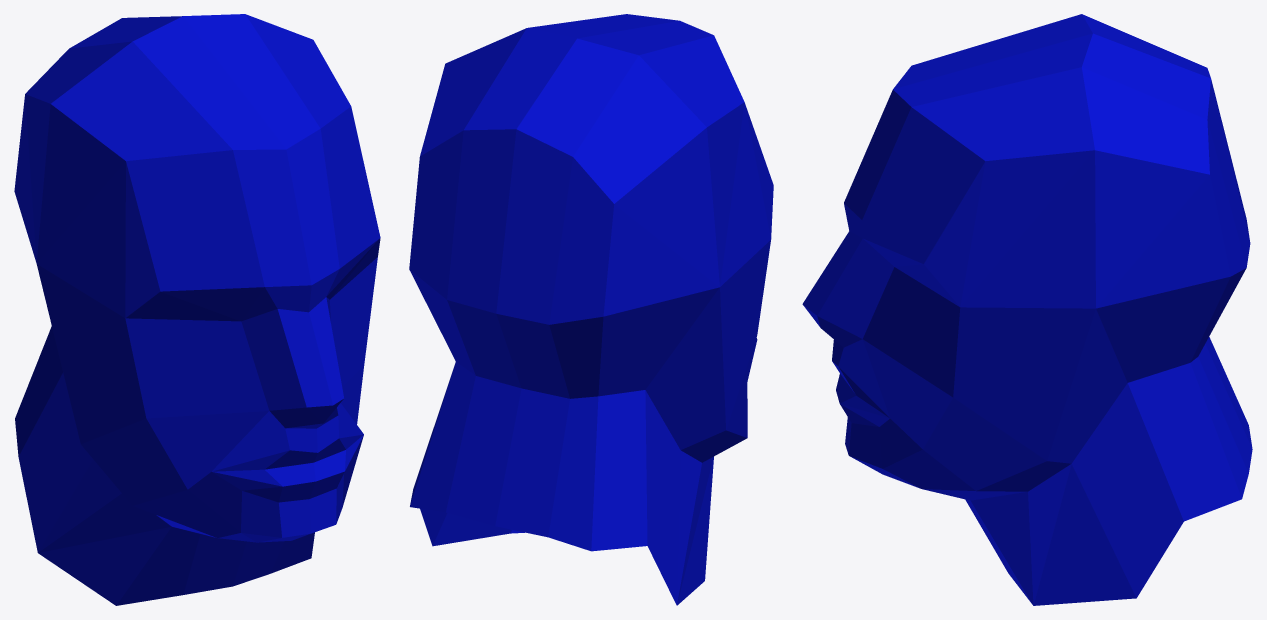
Rendered from player.gltf.
3 views of the same model, side by side, from view 1: azimuth 30°, elevation 25°; view 2: azimuth 150°, elevation 25°; view 3: azimuth 270°, elevation 25° (orthographic). The views are drawn at different scales.
Visible parts, largest first — view 1: Cube; view 2: Cube; view 3: Cube.
Part boxes in pixels (x1=…): Cube: x1=14, y1=14, x2=380, y2=605; Cube: x1=409, y1=14, x2=773, y2=605; Cube: x1=802, y1=14, x2=1252, y2=605.
Bounding box in the file's own units: 2.85 × 5.11 × 3.96.
